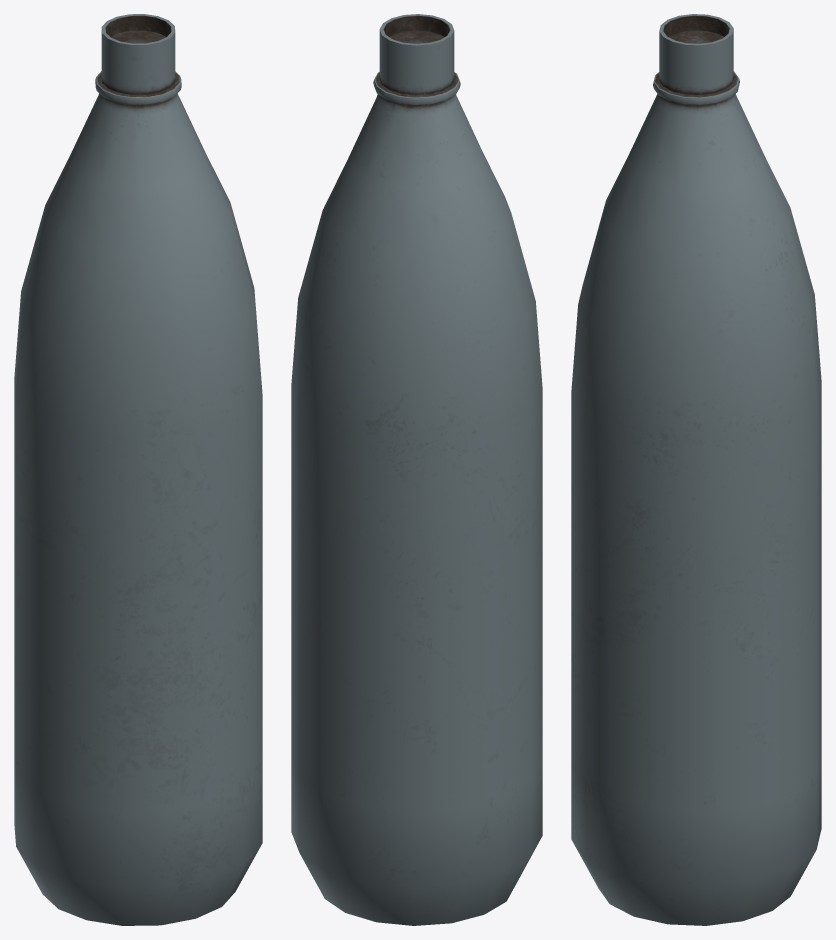
The model's file is glass_bottle.fbx.
The picture shows the model from 3 angles, left to right: view 1: azimuth 30°, elevation 25°; view 2: azimuth 150°, elevation 25°; view 3: azimuth 270°, elevation 25°; orthographic projection.
Parts seen in each view (by area): view 1: glass_bottle; view 2: glass_bottle; view 3: glass_bottle.
Part boxes in pixels (<box>): glass_bottle: <box>14,14,262,925</box>; glass_bottle: <box>291,14,542,925</box>; glass_bottle: <box>571,14,821,925</box>.
Bounding box in the file's own units: 105 × 398 × 105.
Materials: 1 (1 with a texture image).
